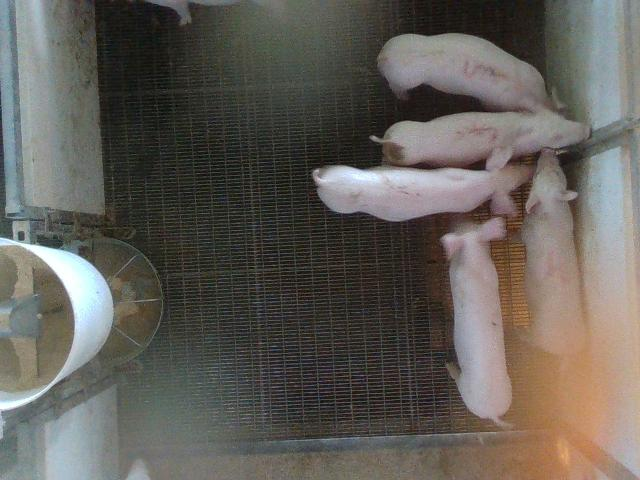pig-3: (378, 34, 556, 111)
pig-4: (521, 149, 586, 354)
pig-5: (370, 111, 590, 169)
